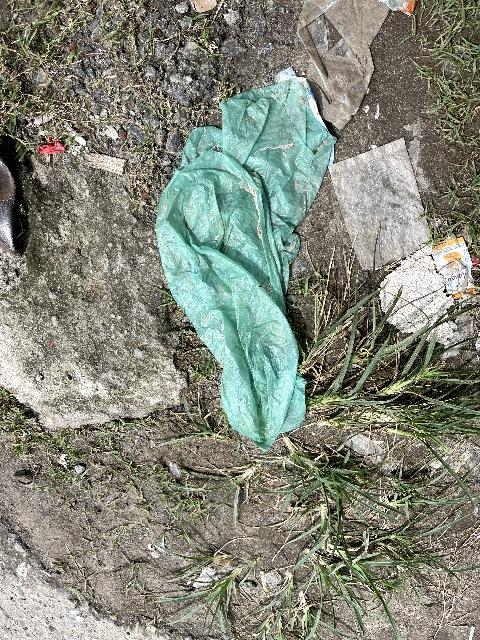polythene: (141, 62, 355, 466)
